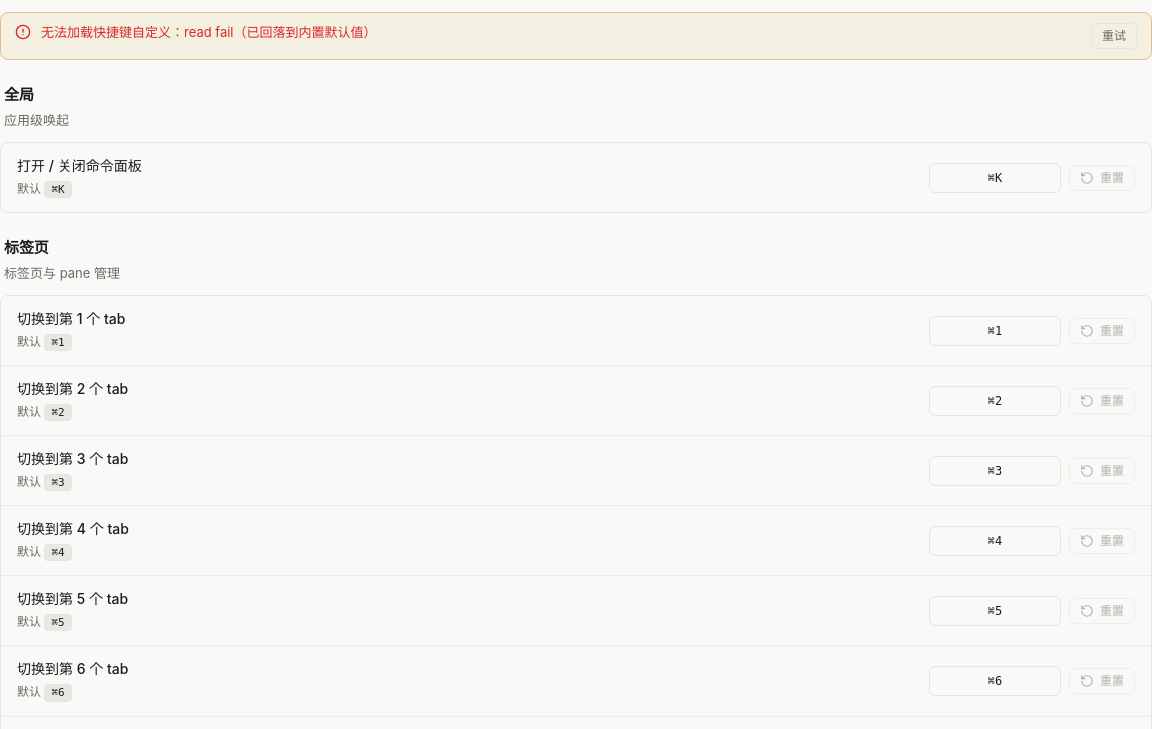
Scenario: KeyboardShortcutsPanel › configLoadError 重试按钮：getConfig 成功 → banner 消失
The width and height of the screenshot is (1152, 729).
Expected: the message "无法加载快捷键自定义：read fail（已回落到内置默认值） 重试" is shown, 0,12 -> 1151,60
Click the button "重试".
click(1114, 36)  # box 1091,23 -> 1137,49
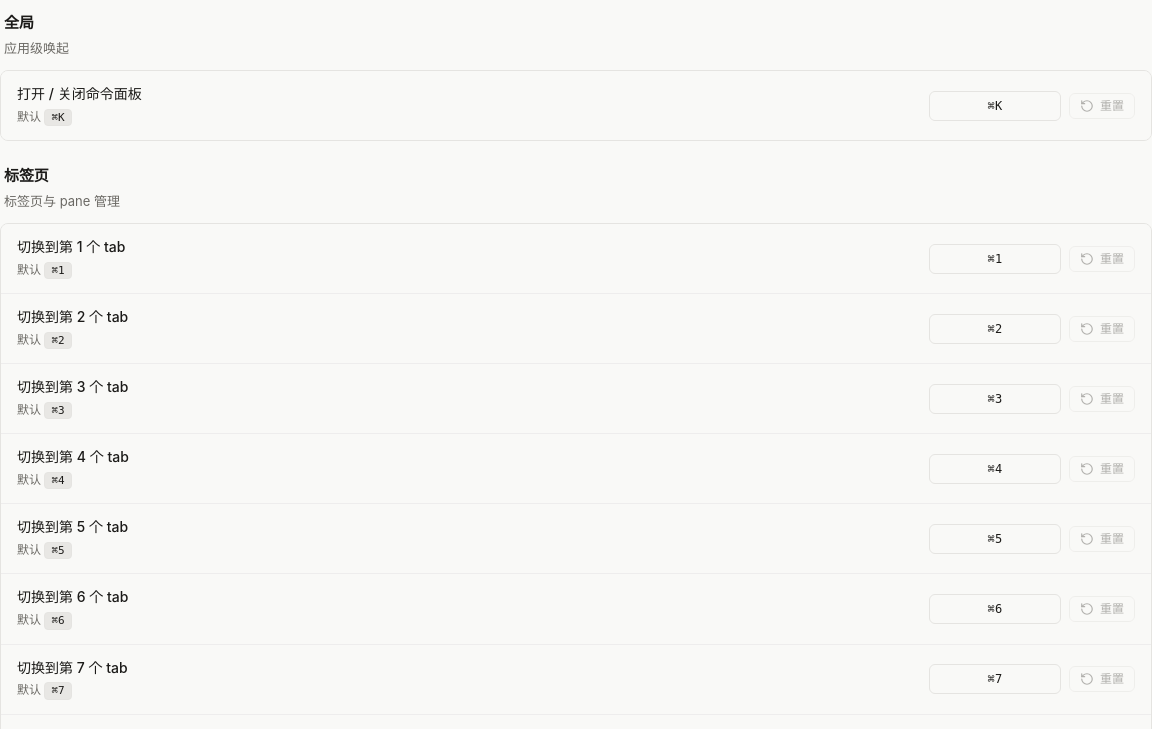
Result: the message with class "banner-error" is gone
